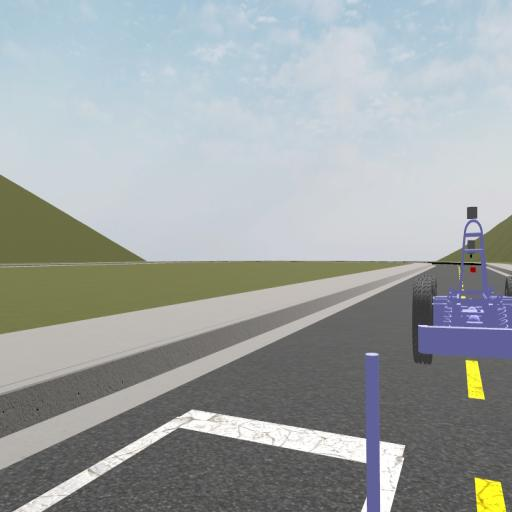ERP-42: (411, 205, 510, 369)
